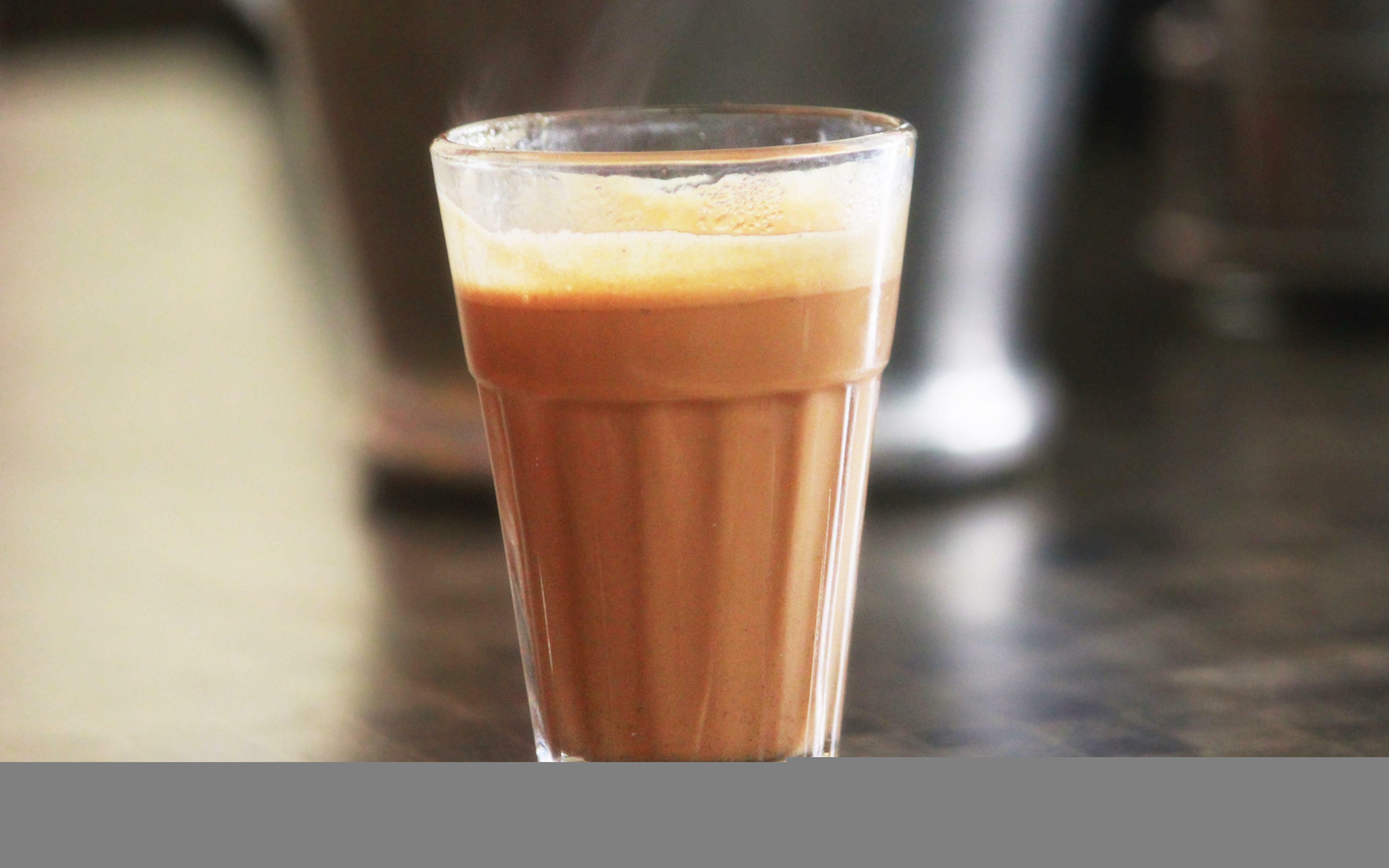Chai: (452, 240, 889, 753)
